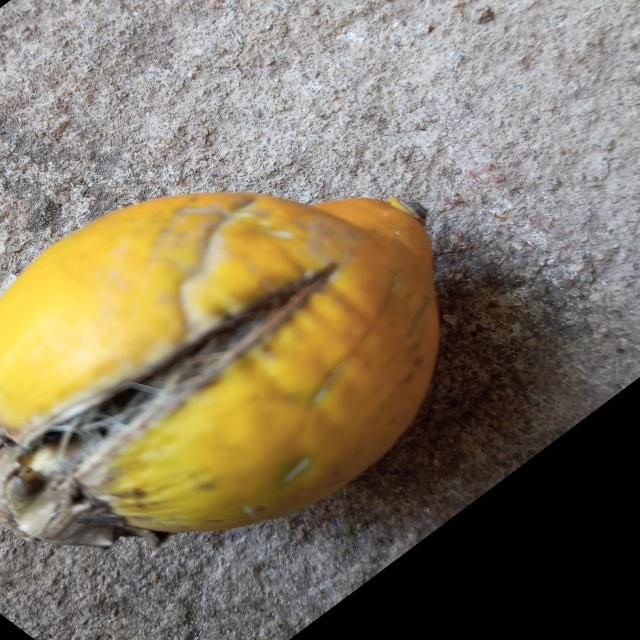damaged: (0, 193, 438, 547)
